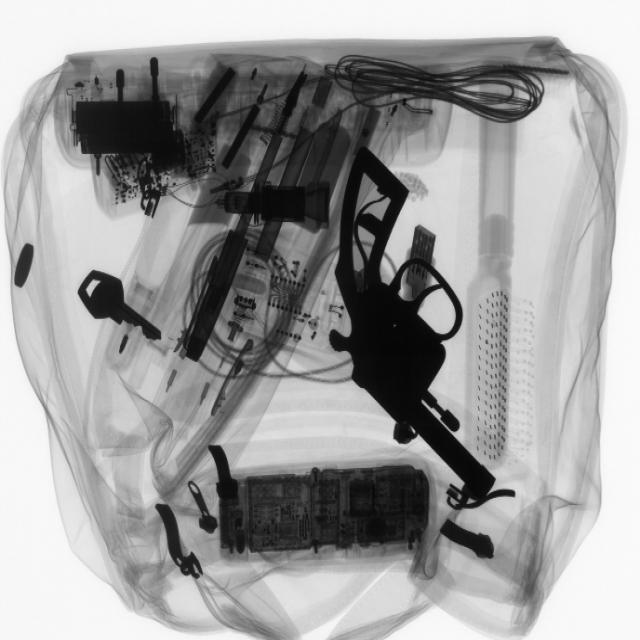GUN: (329, 140, 487, 515)
